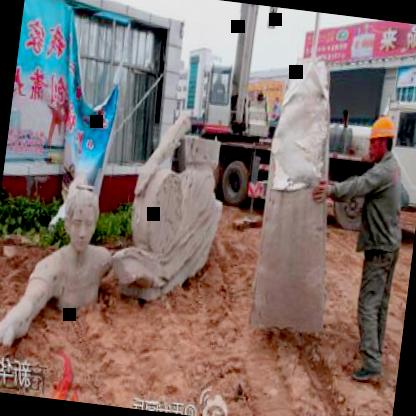helmet: (362, 106, 402, 167)
